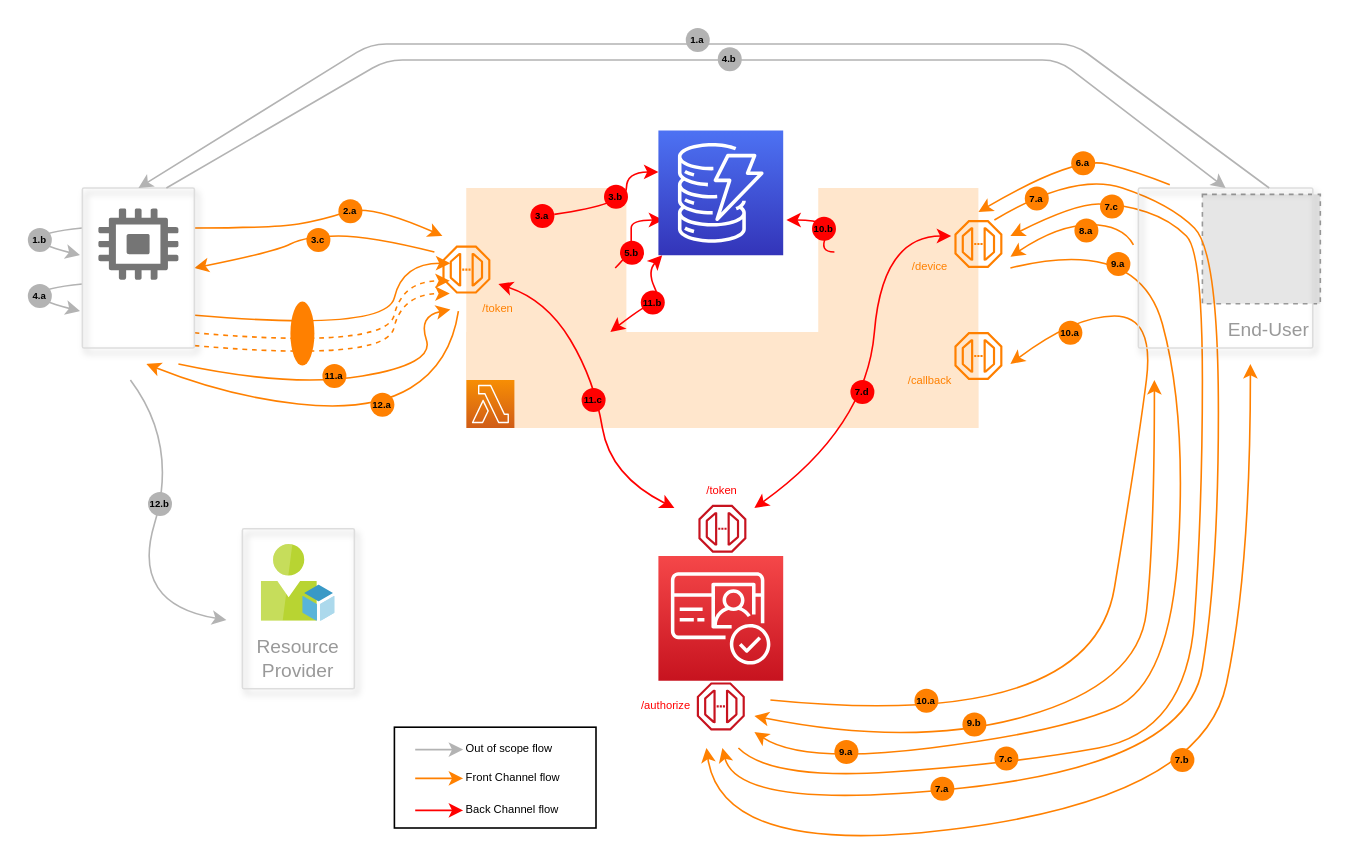
The diagram is 1350 pixels wide and 864 high, and some of its shapes have lost their labels. Grey dashed boxes stand in for pictures. Here are the shapes that lost their labels. From the top down, the centre of each, then its label:
(x=139, y=269): Client application
(x=302, y=333): 5.a
